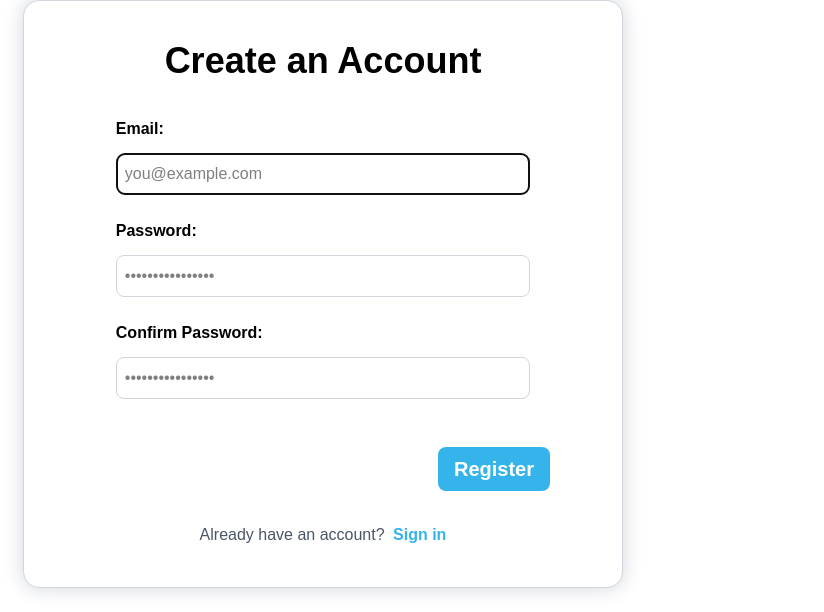
Test case: RegisterPanel › shows invalid password tooltip when register() returns with "Invalid password" error
Type "user@example.com" into the field named "Email:*".
click(323, 174); type("user@example.com")  # box [116,153,530,195]
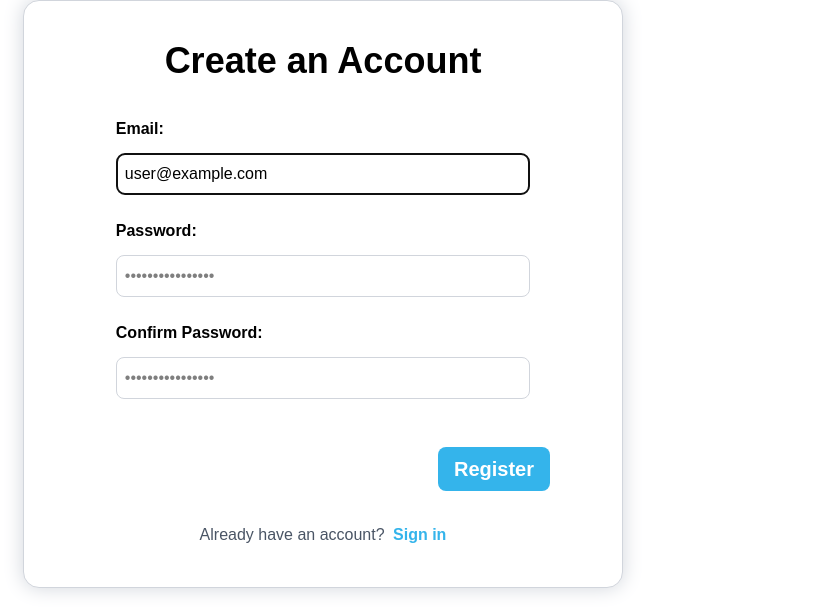
Type "PasswordWithNoDigits@" into the password field named "Password:*".
click(323, 276); type("PasswordWithNoDigits@")  # box [116,255,530,297]
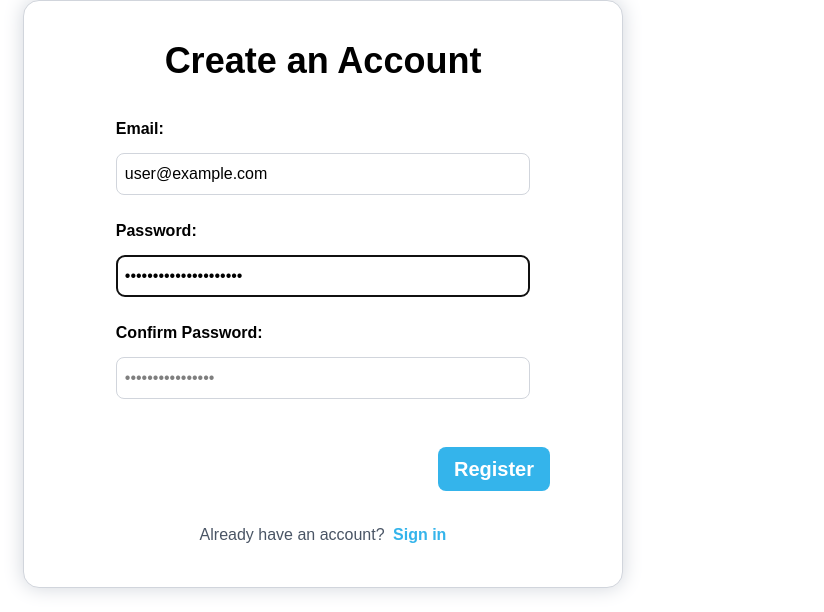
Type "PasswordWithNoDigits@" into the password field named "Confirm Password:*".
click(323, 378); type("PasswordWithNoDigits@")  # box [116,357,530,399]
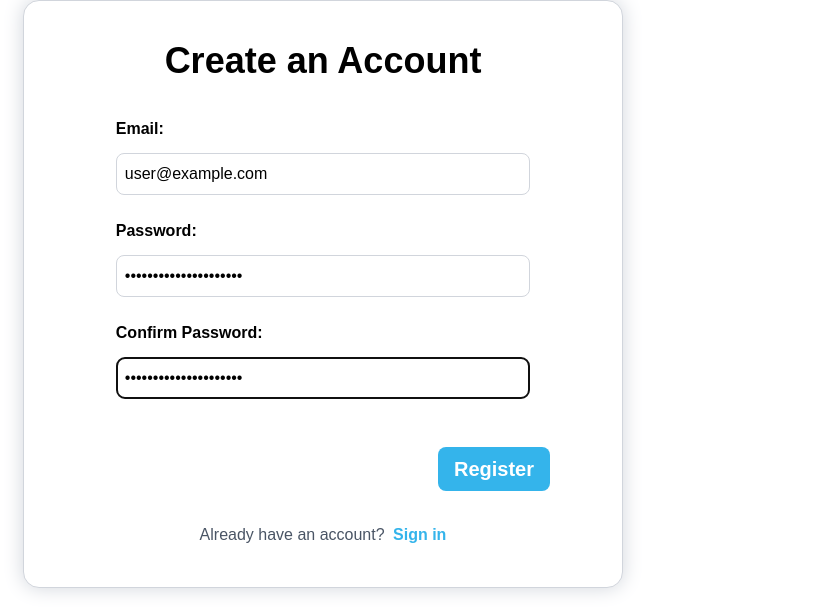
Click the button "Register".
click(494, 469)  # box [438,447,550,491]
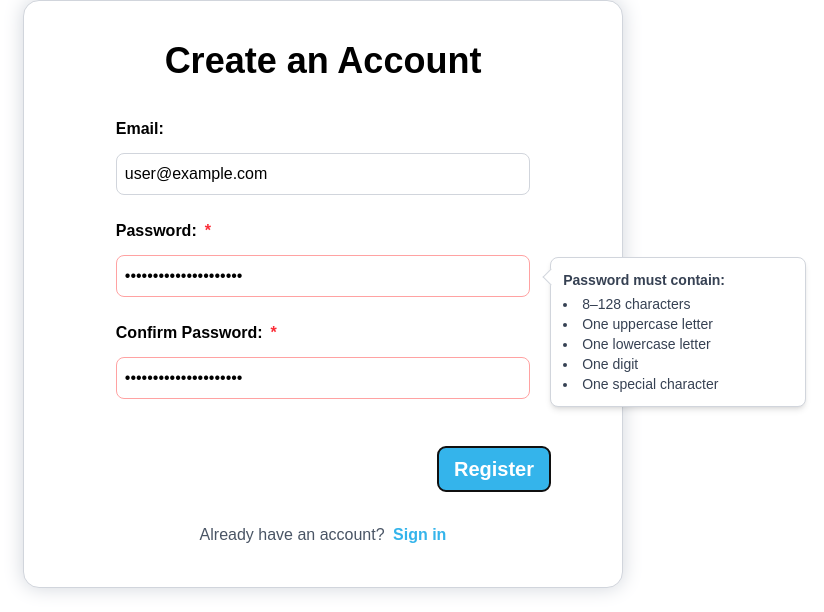
Expected: the text "Password must contain:" is shown, [563,272,725,288]
